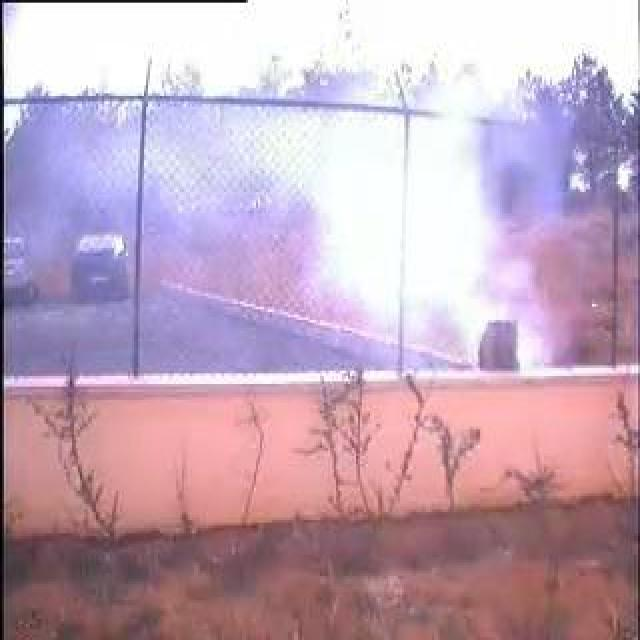Smoke: (196, 116, 574, 361)
